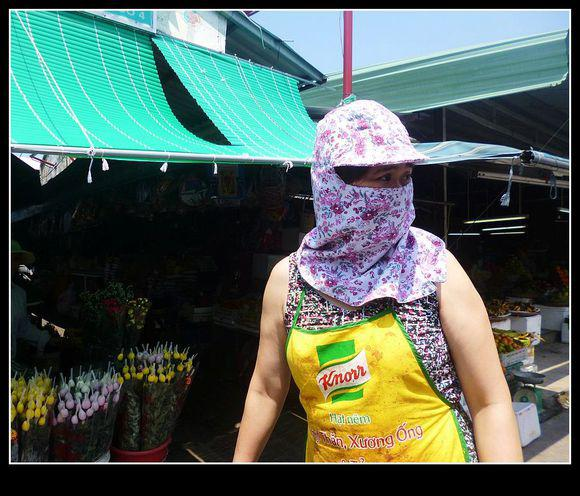OK: (352, 157, 429, 234)
